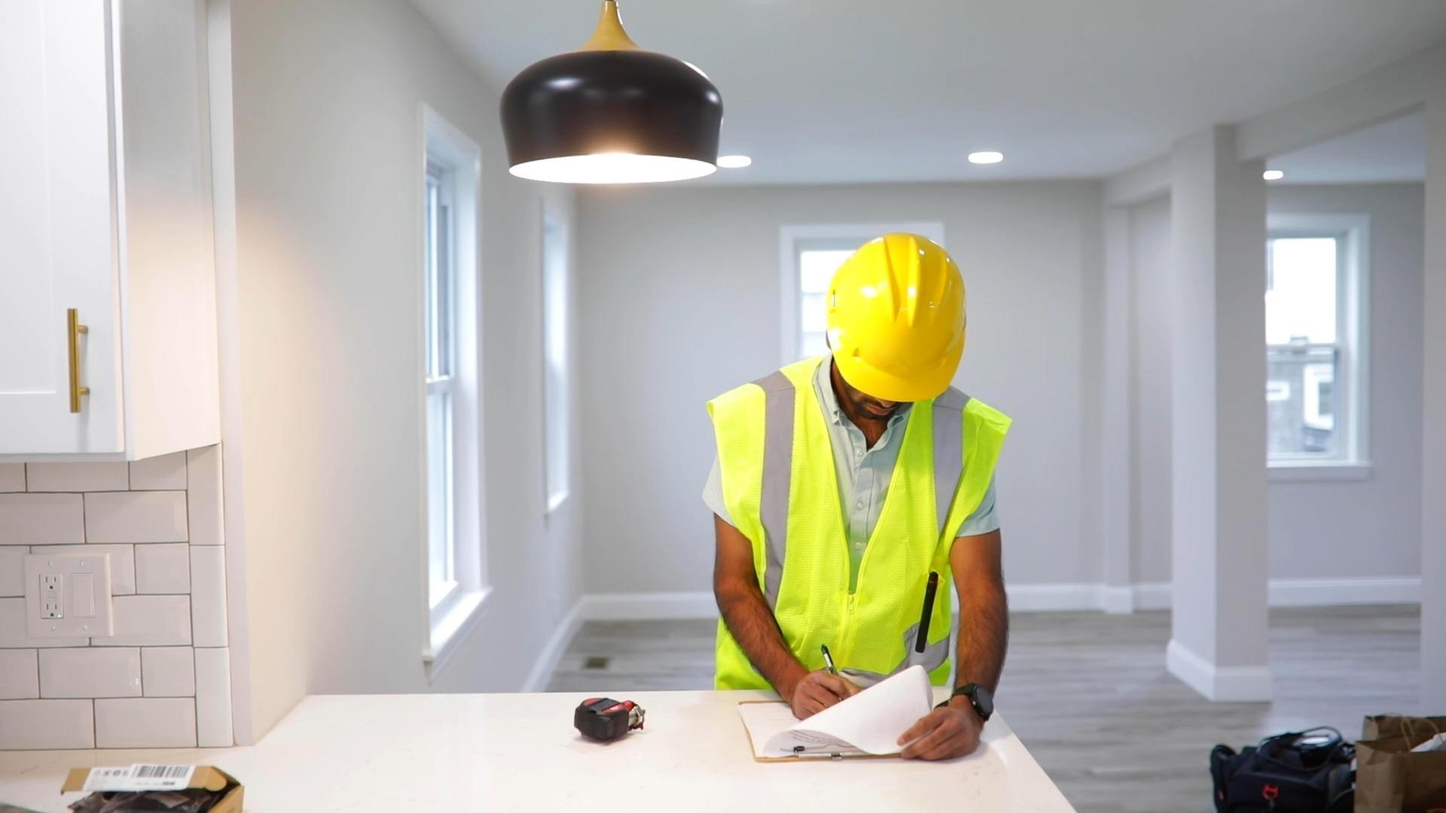Helmet: (826, 241, 991, 389)
Person: (701, 232, 1011, 761)
Safety Vest: (725, 396, 964, 684)
bare-arms: (889, 696, 975, 751), (792, 657, 856, 712)
